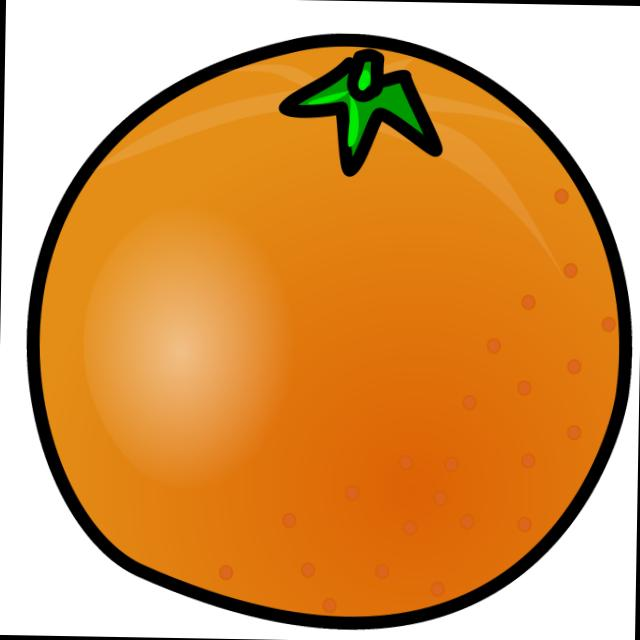orange: (27, 36, 626, 640)
